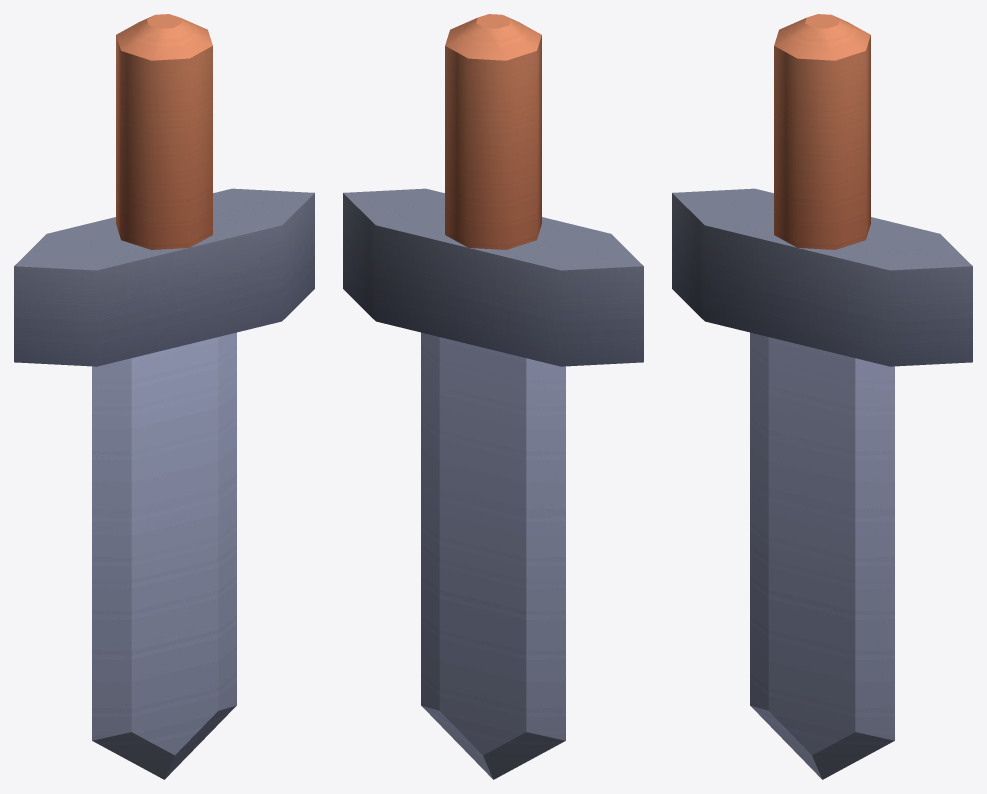
Rendered from weapon-sword.glb.
3 renders of one model, left to right at view 1: azimuth 30°, elevation 25°; view 2: azimuth 150°, elevation 25°; view 3: azimuth 330°, elevation 25°, orthographic.
Parts seen in each view (by area): view 1: weapon-sword; view 2: weapon-sword; view 3: weapon-sword.
Part boxes in pixels (<box>): weapon-sword: <box>14,14,314,779</box>; weapon-sword: <box>343,14,643,779</box>; weapon-sword: <box>672,14,972,779</box>.
Bounding box in the file's own units: 0.624 × 1.5 × 0.18.
Materials: 1 (1 with a texture image).
